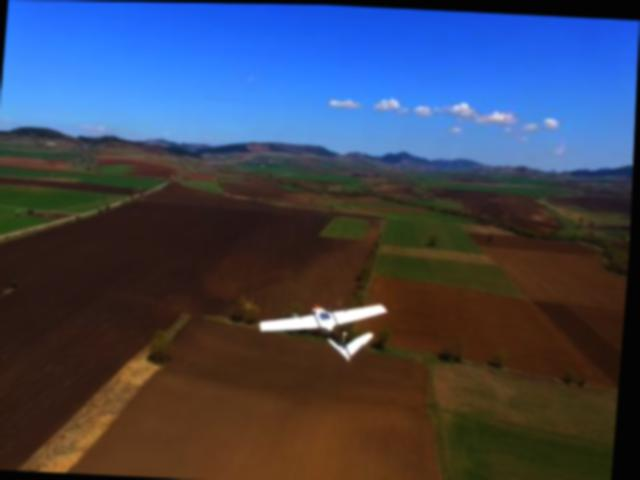uav: (255, 285, 395, 375)
